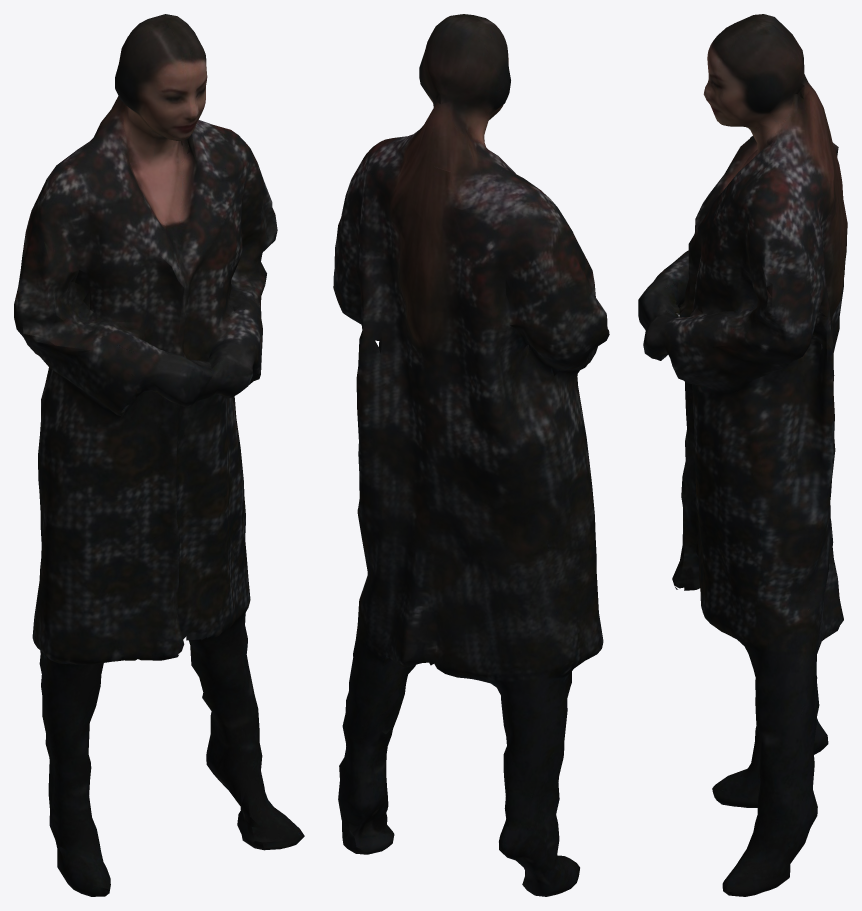
Rendered from evercoast.0022.gltf.
The picture shows the model from 3 angles, left to right: view 1: azimuth 30°, elevation 25°; view 2: azimuth 150°, elevation 25°; view 3: azimuth 270°, elevation 25°; orthographic projection. The views are drawn at different scales.
Visible parts, largest first — view 1: HIGH; view 2: HIGH; view 3: HIGH.
Boxes of the visible parts, x1,y1,x2,y2 form: HIGH: (14,14,304,896); HIGH: (333,14,609,896); HIGH: (638,14,847,896).
Bounding box in the file's own units: 0.6138 × 1.83 × 0.4228.
1 material, 1 textured.
